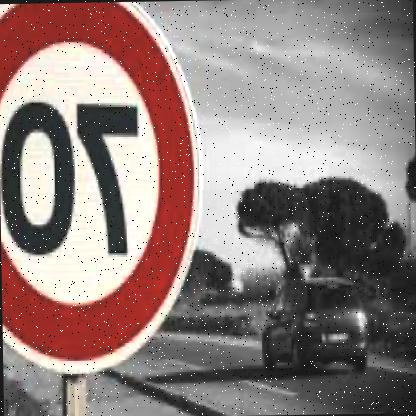speedlimit: (0, 0, 211, 373)
